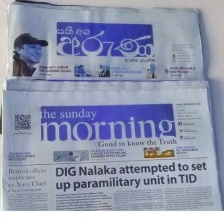news_paper: (0, 79, 224, 210), (1, 0, 214, 90)
